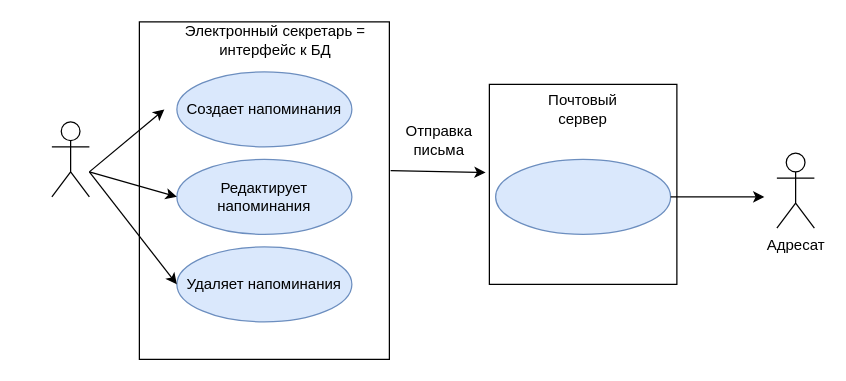
Image size: 846x381. Some labels were removed from this diagram. Each missing label, with the centre of its shape:
"Получение письма" belongs at pixel 582 196.
"Пользователь" belongs at pixel 70 159.
